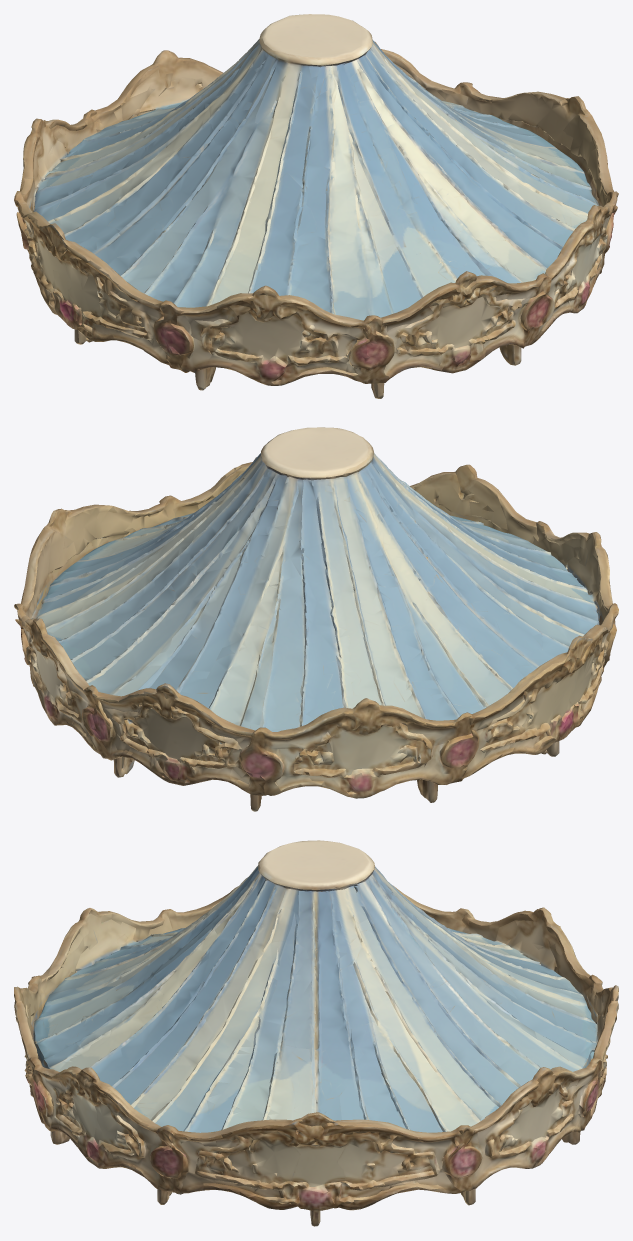
File: aholo-carousel-canopy.glb
The picture shows the model from 3 angles, top to bottom: view 1: azimuth 30°, elevation 25°; view 2: azimuth 150°, elevation 25°; view 3: azimuth 270°, elevation 25°; orthographic projection.
Size of the model in its own units: 0.7998 by 0.3639 by 0.7992.
Materials: 1 (1 with a texture image).
